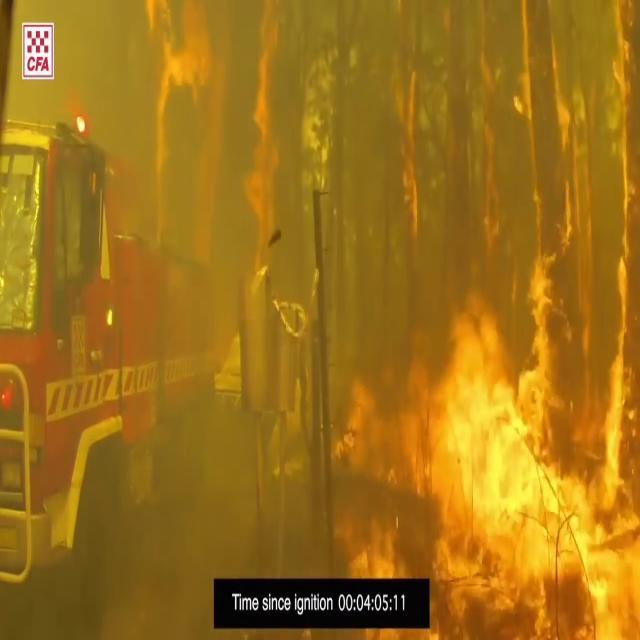Fire: (349, 27, 640, 579)
